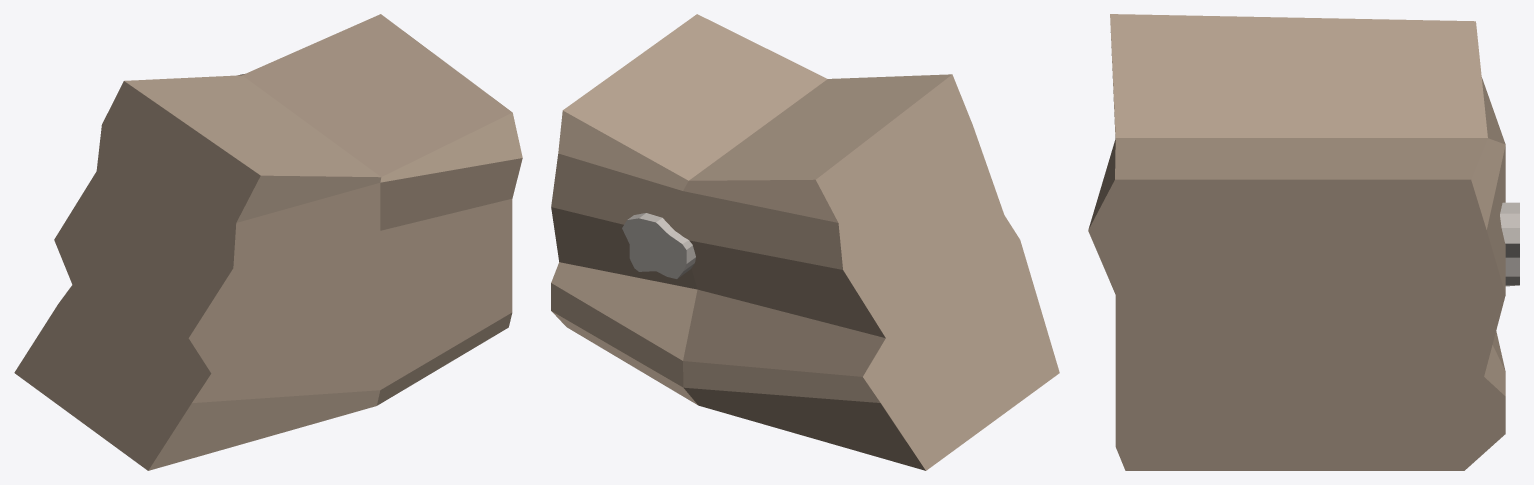
The model's file is LeftDirt.fbx.
3 views of the same model, side by side, from view 1: azimuth 30°, elevation 25°; view 2: azimuth 150°, elevation 25°; view 3: azimuth 270°, elevation 25° (orthographic). The views are drawn at different scales.
Visible parts, largest first — view 1: polySurface121; view 2: polySurface121; view 3: polySurface121.
Boxes of the visible parts, x1=… form: polySurface121: x1=14, y1=14, x2=522, y2=470; polySurface121: x1=551, y1=14, x2=1059, y2=470; polySurface121: x1=1088, y1=14, x2=1519, y2=470.
Bounding box in the file's own units: 2.89 × 2.05 × 2.21.
